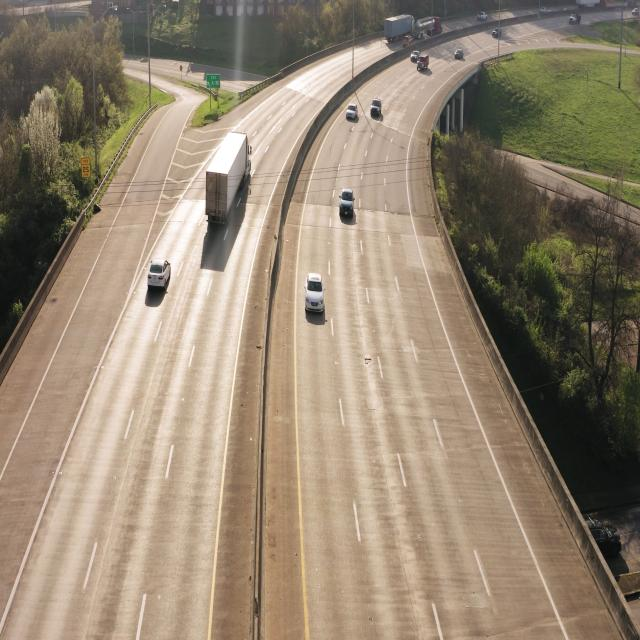Vehicle: (200, 129, 252, 237), (145, 253, 171, 299), (303, 269, 324, 323), (336, 186, 356, 225), (344, 97, 360, 124), (368, 98, 383, 121)
